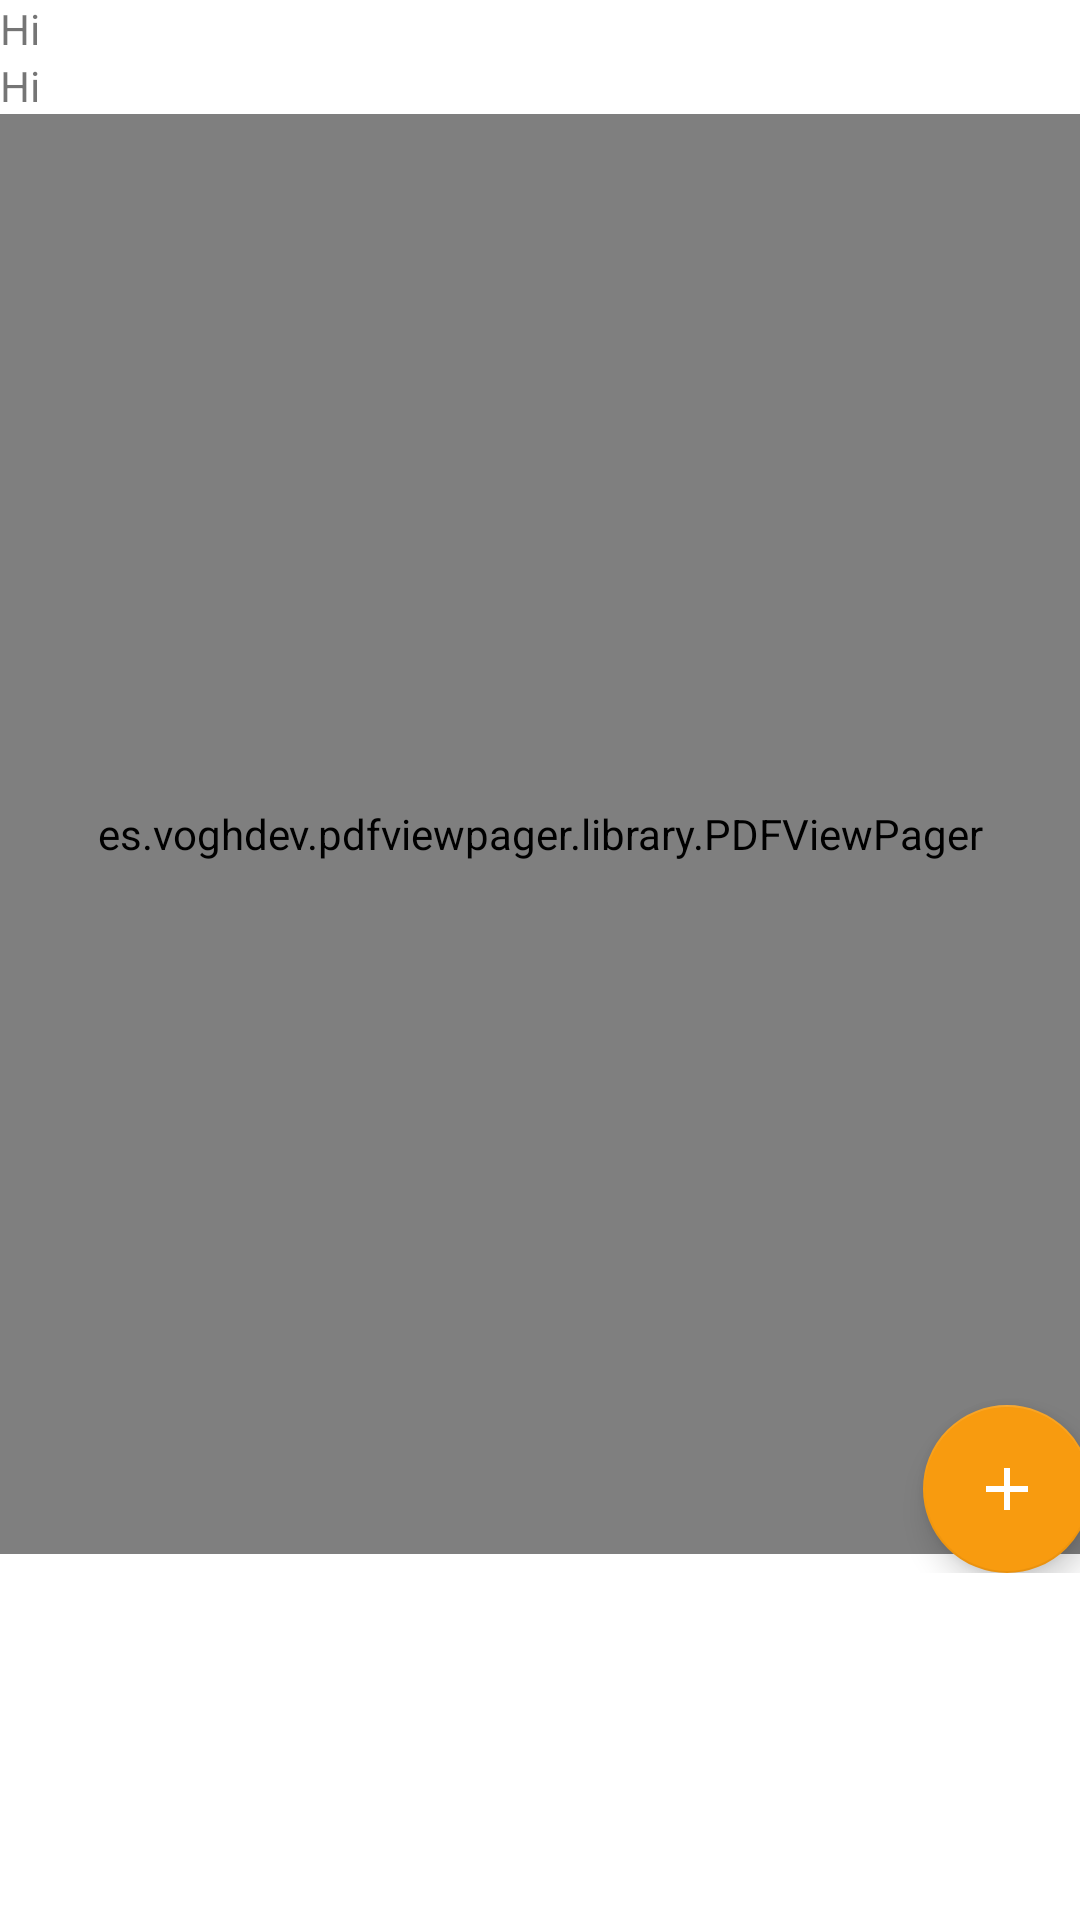

Named icons in this screenshot (1080px x 1920px) and their centers, [x,y]:
plus: [1001,1489]
